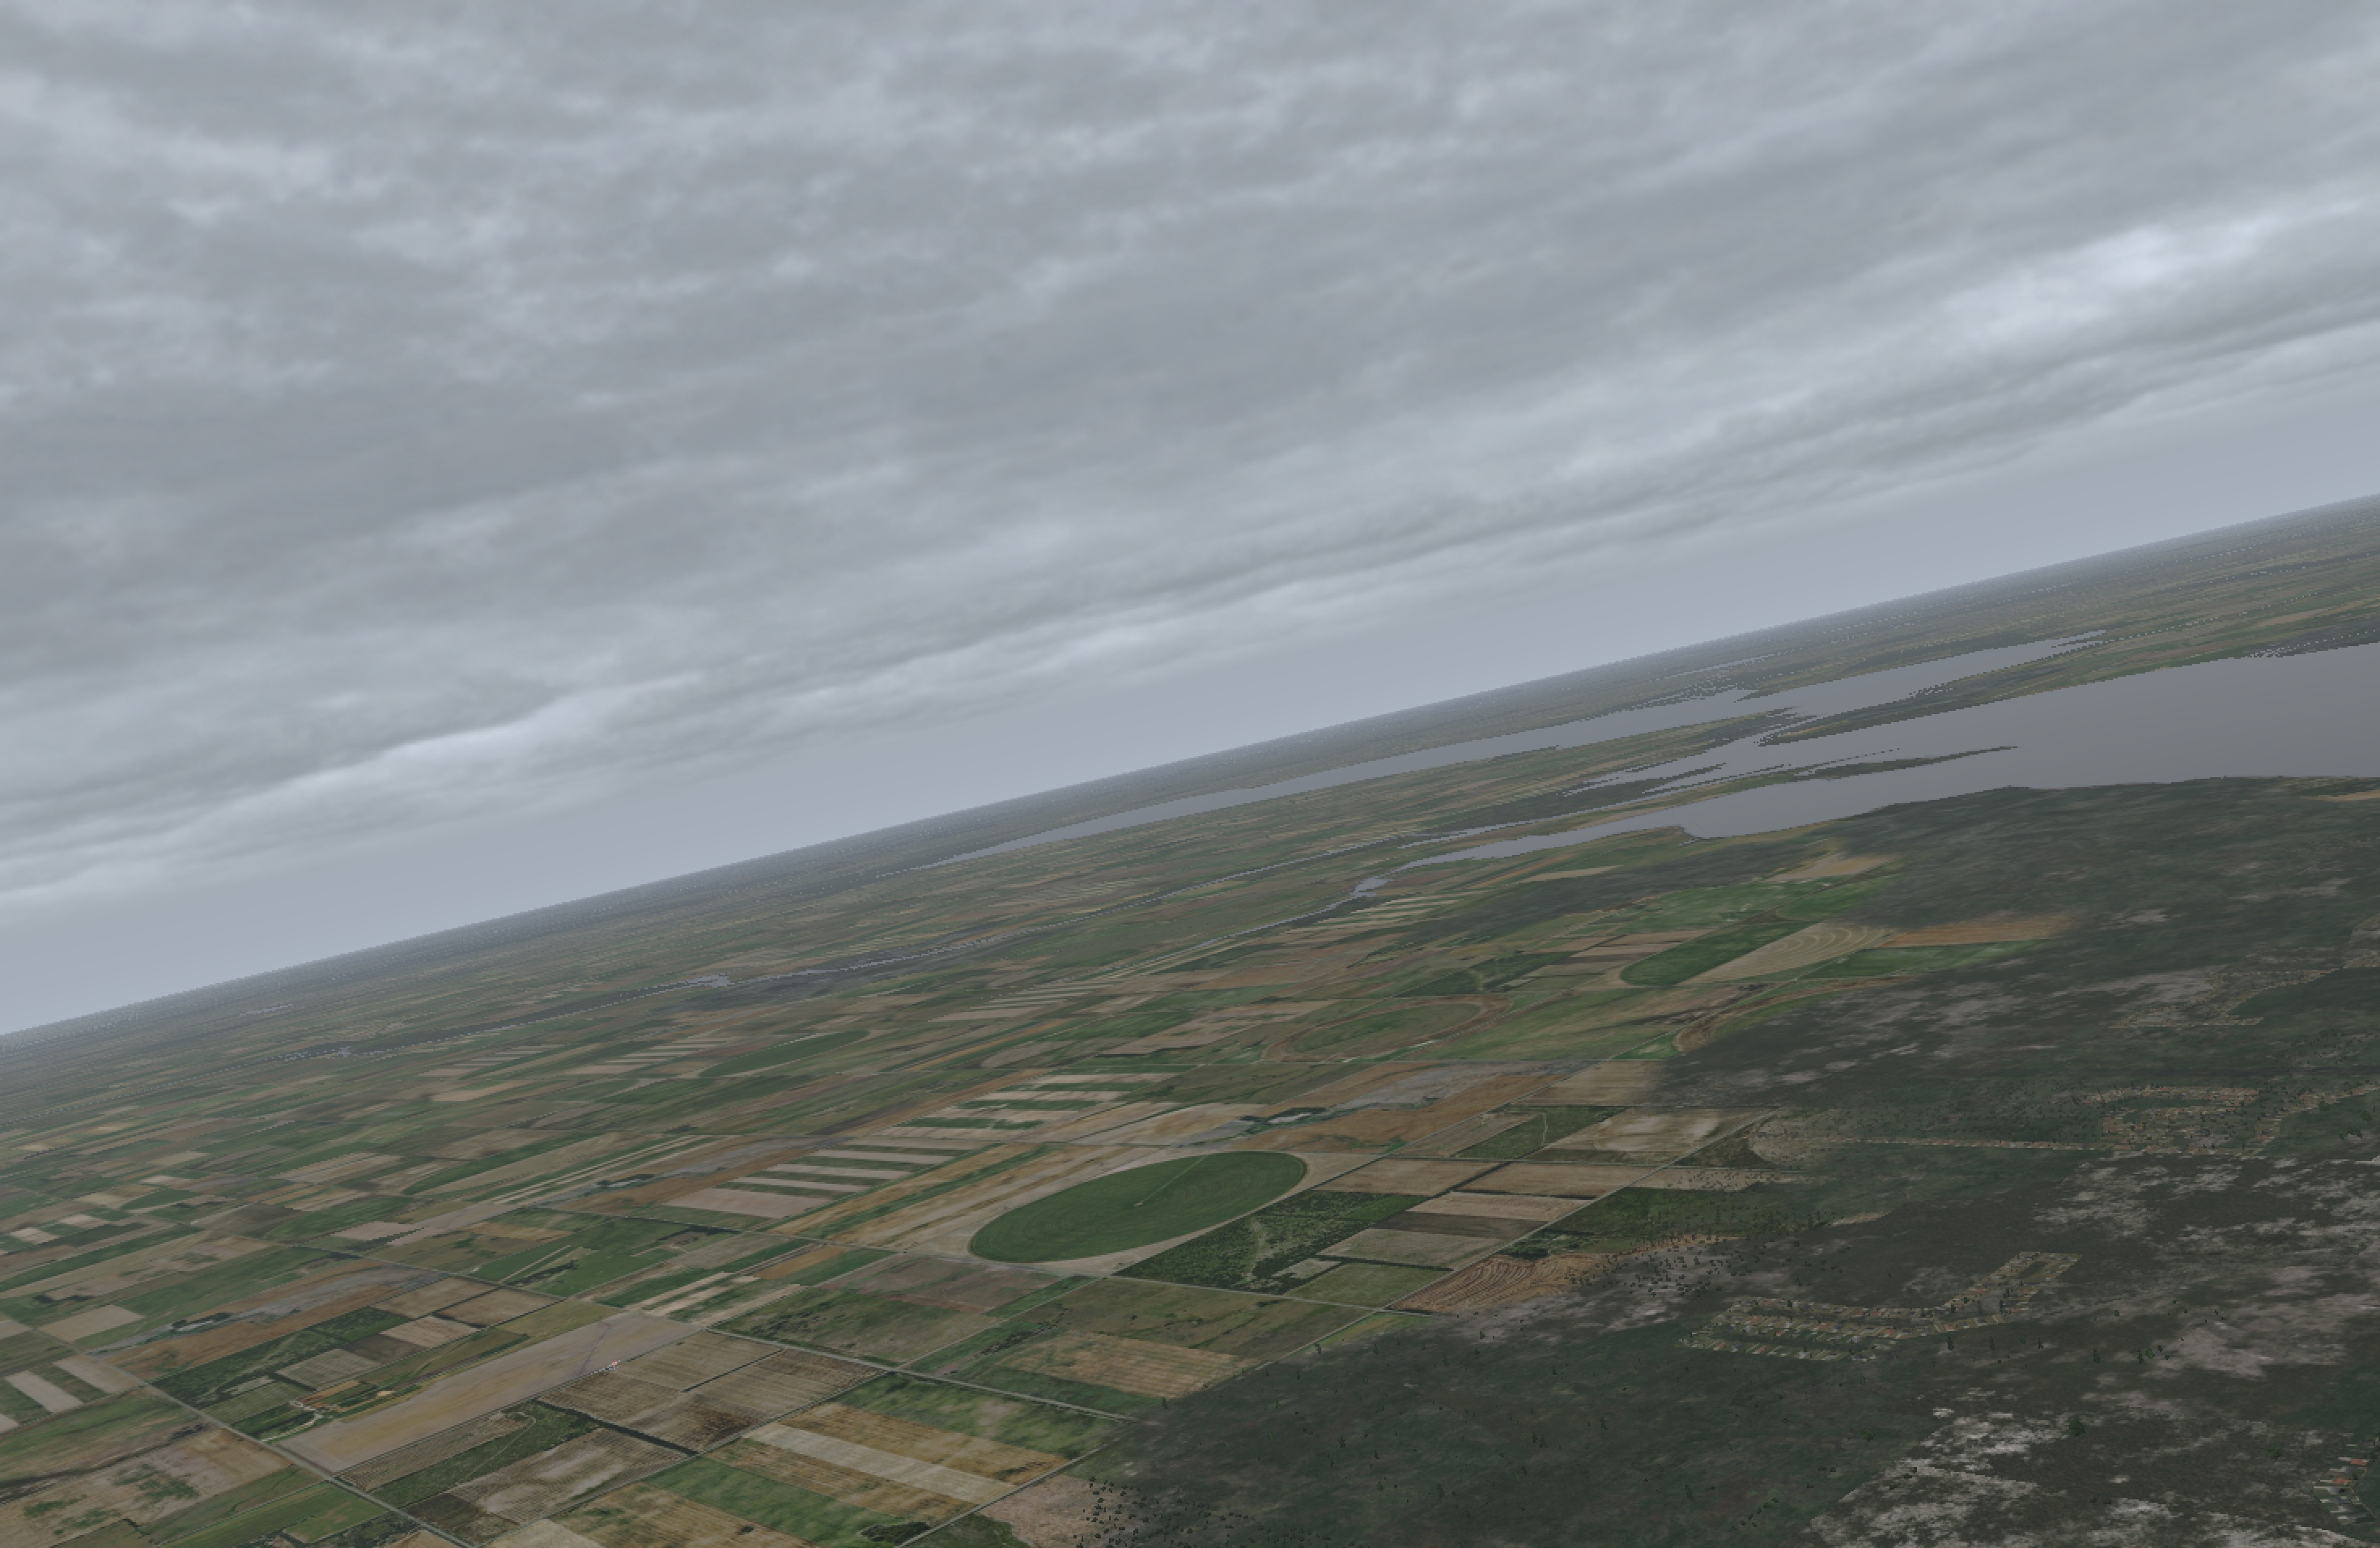aircraft: (595, 1364, 619, 1373)
